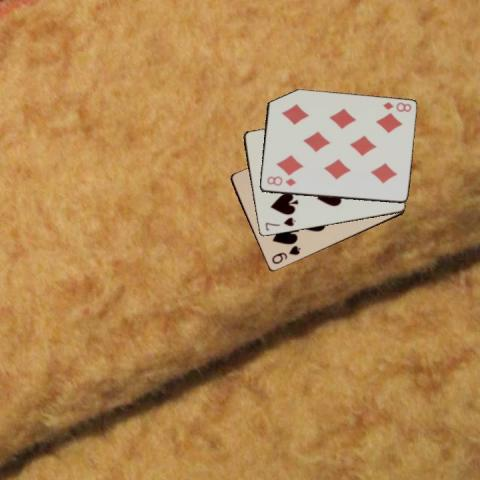7s: (262, 215, 297, 232)
8d: (264, 174, 298, 188), (380, 100, 413, 114)
9s: (269, 243, 302, 266)
